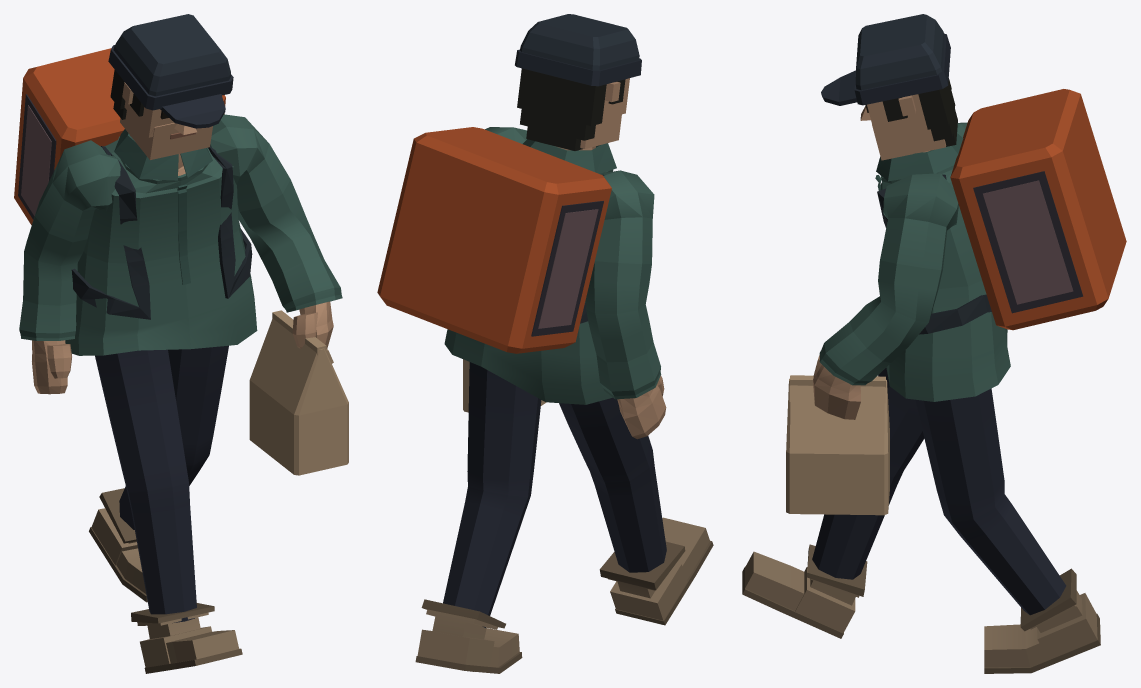
Rendered from delivery-courier-327e30__walk4.glb.
The picture shows the model from 3 angles, left to right: view 1: azimuth 30°, elevation 25°; view 2: azimuth 150°, elevation 25°; view 3: azimuth 270°, elevation 25°; orthographic projection.
Visible parts, largest first — view 1: delivery-courier-327e30__walk4; view 2: delivery-courier-327e30__walk4; view 3: delivery-courier-327e30__walk4.
Part boxes in pixels (<box>): delivery-courier-327e30__walk4: <box>14,14,348,673</box>; delivery-courier-327e30__walk4: <box>377,14,713,673</box>; delivery-courier-327e30__walk4: <box>742,14,1126,673</box>.
Size of the model in its own units: 0.7489 by 1.73 by 0.9785.
